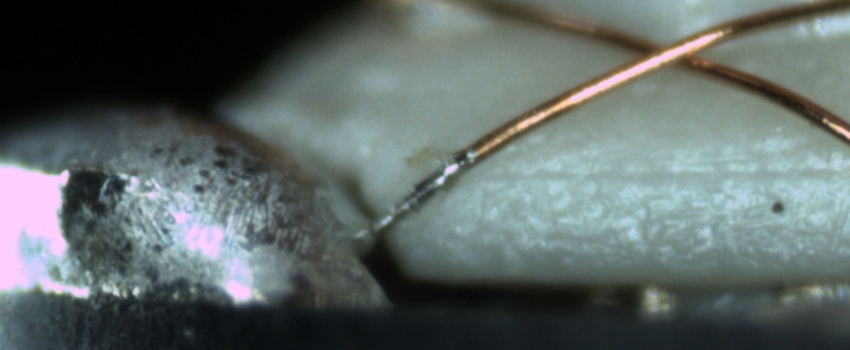CL: (609, 25, 728, 77)
DL: (485, 137, 850, 200)
TS: (371, 150, 475, 232)
TTCW: (374, 133, 504, 236)
